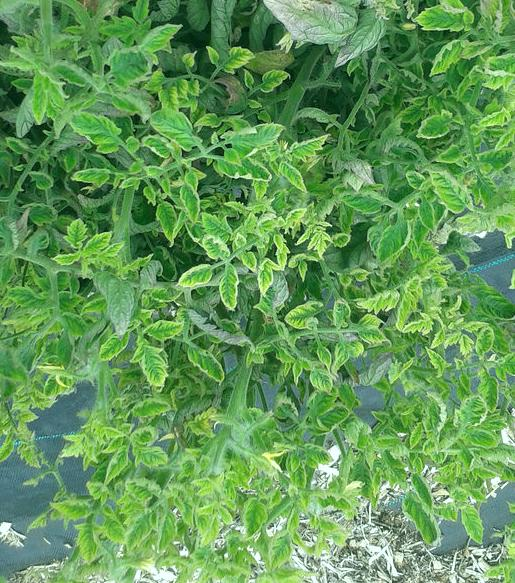Tomato leaf yellow virus: (64, 105, 134, 158), (105, 37, 170, 88), (420, 161, 475, 218), (403, 390, 447, 458), (130, 13, 189, 59), (147, 107, 209, 149), (369, 206, 408, 268), (399, 498, 451, 543), (96, 311, 137, 367), (414, 0, 481, 33), (27, 51, 53, 128), (407, 105, 461, 142), (132, 334, 169, 387), (125, 505, 161, 556), (226, 148, 275, 185), (123, 425, 168, 465), (226, 120, 288, 149), (426, 38, 469, 77), (334, 182, 384, 215), (287, 129, 334, 163), (101, 448, 137, 491), (277, 157, 313, 199), (254, 68, 307, 96), (354, 284, 403, 314), (471, 311, 498, 364), (75, 512, 99, 568), (452, 394, 488, 431), (217, 264, 245, 311), (147, 312, 189, 343), (241, 496, 271, 538), (215, 46, 257, 75), (295, 438, 341, 464), (176, 178, 205, 219), (457, 505, 488, 543), (78, 228, 117, 257), (154, 201, 178, 248), (286, 296, 319, 330), (203, 229, 236, 263), (177, 258, 216, 286), (253, 257, 279, 297), (125, 395, 171, 417), (310, 362, 336, 394)
